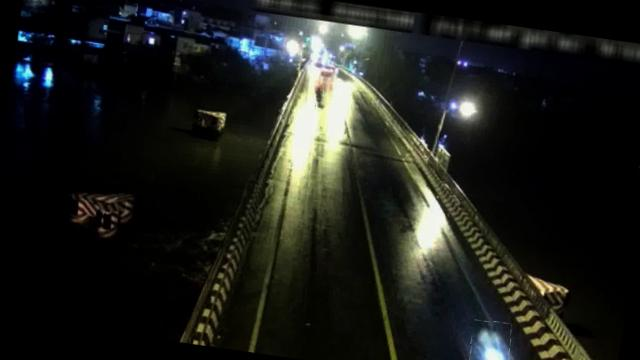Bike: (466, 318, 514, 360), (312, 84, 327, 110)
